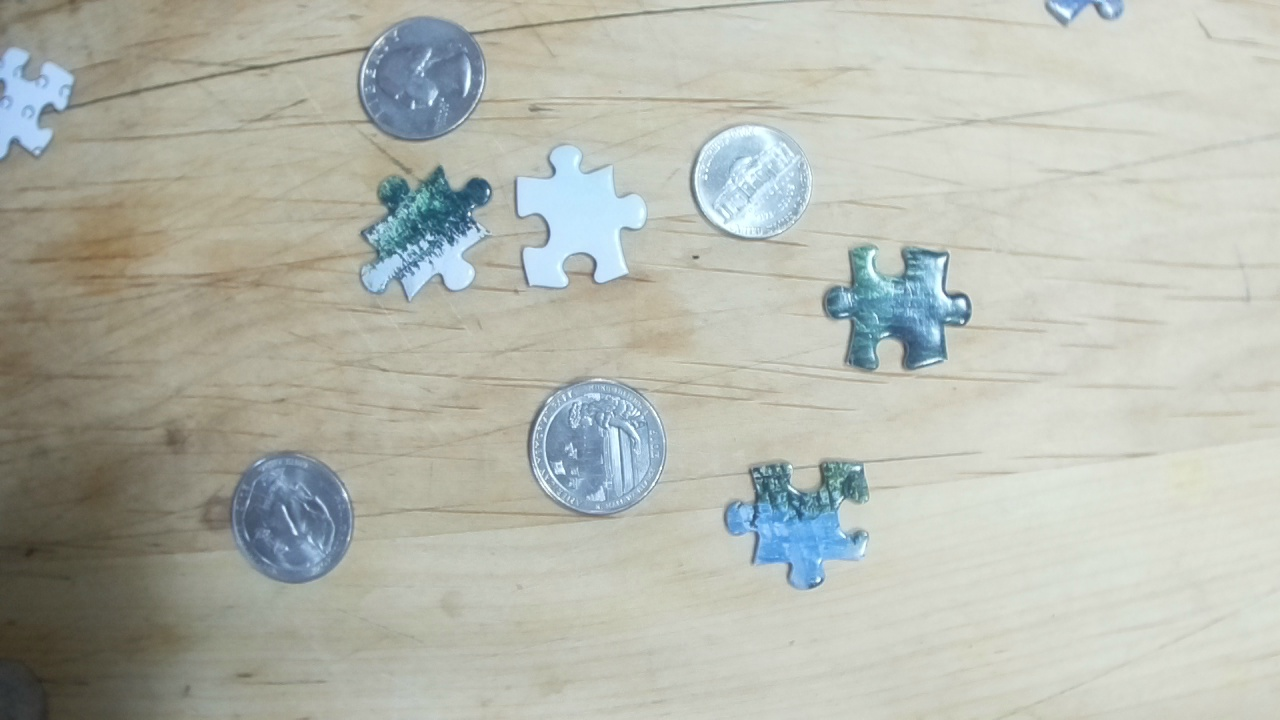nickel: (691, 122, 813, 240)
quarter: (527, 377, 669, 514), (231, 450, 356, 587), (355, 18, 488, 143)
